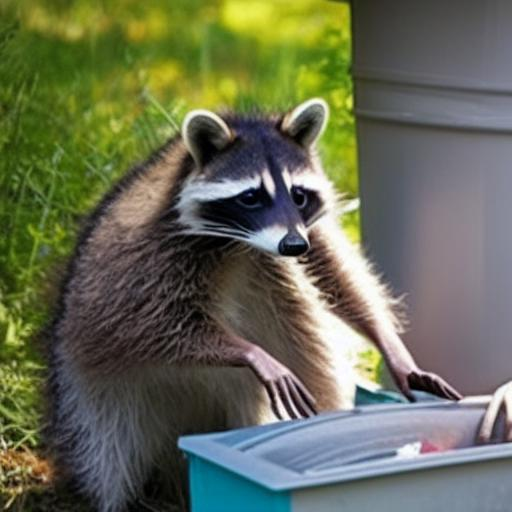raccoon: (38, 86, 376, 512)
